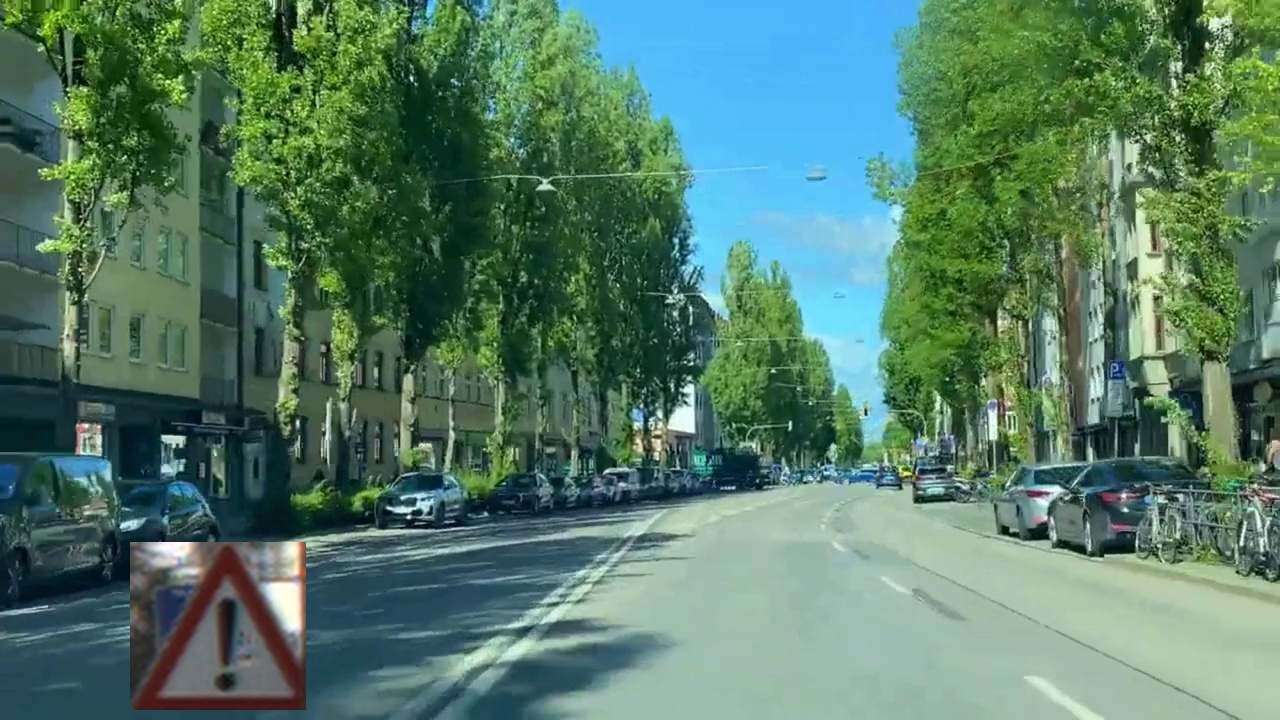Caution: (130, 542, 306, 710)
